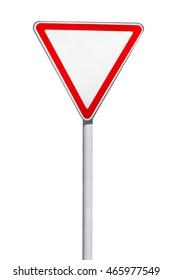Give Way: (24, 18, 161, 116)
